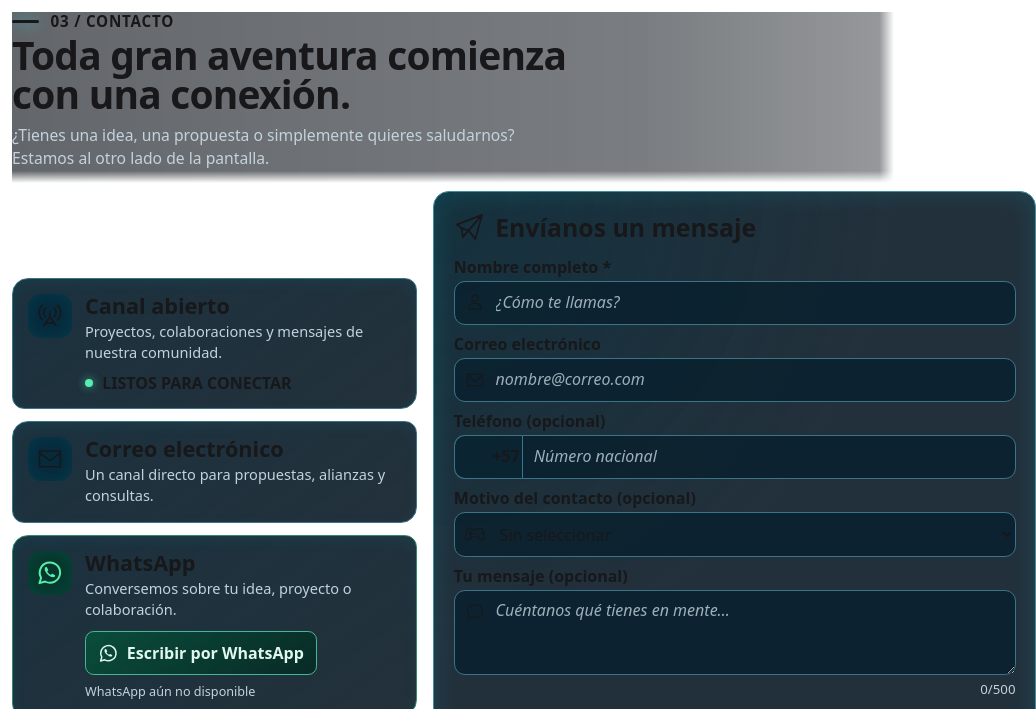
it: relocalizes a touched field error after changing language and clears it after correction
Later steps or results of the test are not shown.
Type "+44 20" into the field labelled "Teléfono (opcional)" at (769, 457), box [522, 435, 1016, 479]
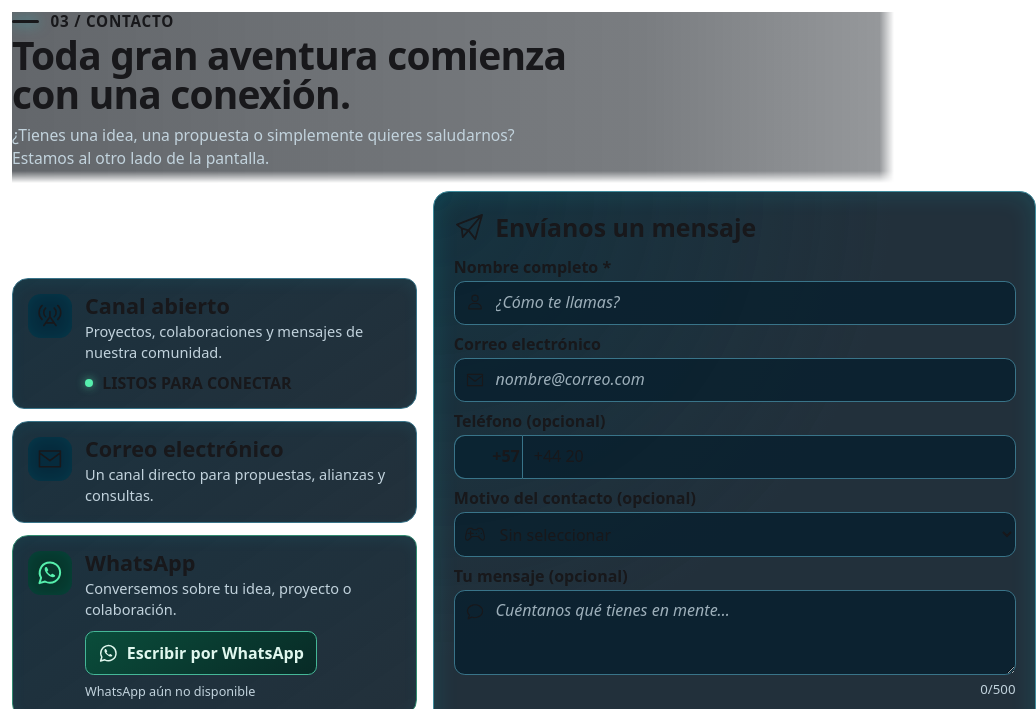
Leave the field labelled "Teléfono (opcional)", box [522, 435, 1016, 479]
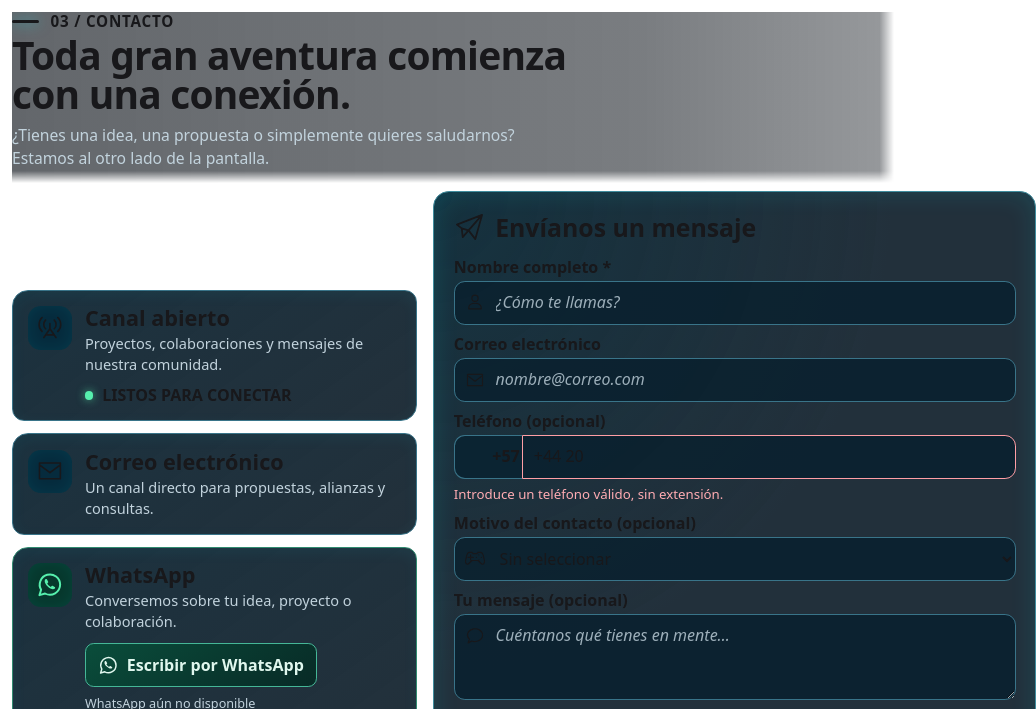
Expected: the message reads "Introduce un teléfono válido, sin extensión.", [454, 485, 723, 503]
